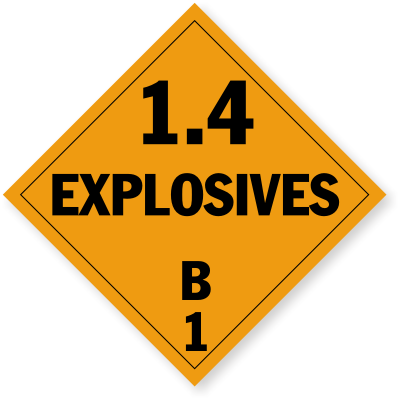Explosive: (18, 11, 390, 378)
